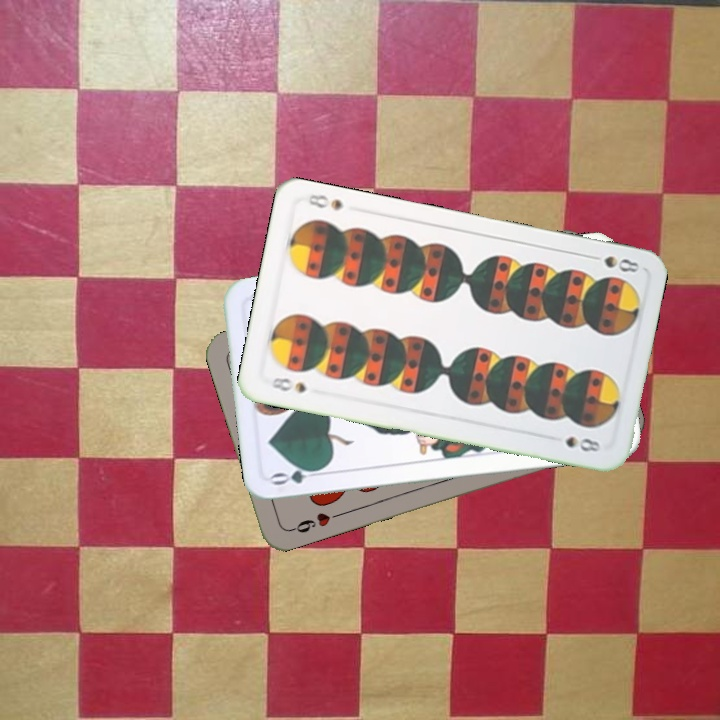GO: (268, 462, 327, 488)
H9: (285, 508, 343, 536)
S8: (583, 251, 642, 275), (267, 373, 309, 395)
